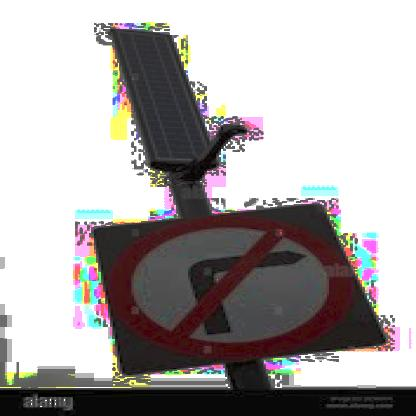No right turn: (100, 212, 358, 360)
